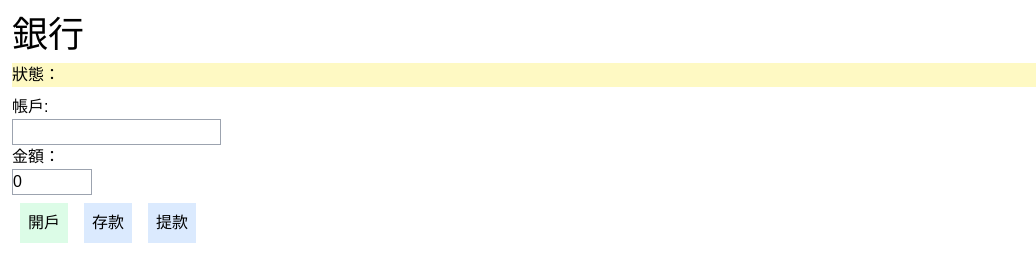
Test case: 執行存款 › 輸入帳戶名稱、金額，存款完成，狀態欄位顯示用戶餘額 1000 元
This screenshot has width=1036, height=260.
Type "小明" into the field with test id "input_account".
click(116, 132); type("小明")  # box [12, 119, 221, 145]
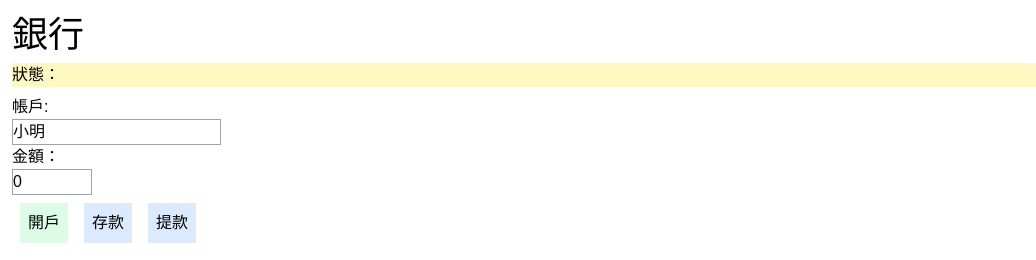
Click the button with test id "button_open-account".
click(44, 223)  # box [20, 203, 68, 243]
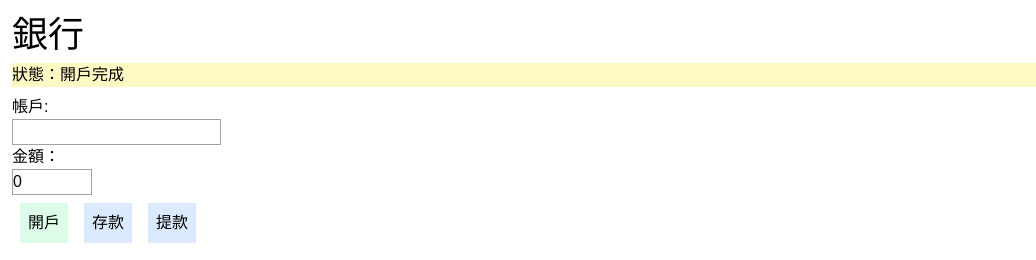
Type "小明" into the field with test id "input_account".
click(116, 132); type("小明")  # box [12, 119, 221, 145]
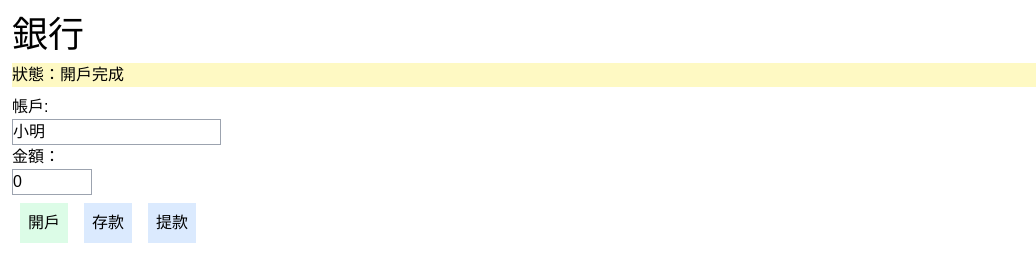
Replace the text in the number field with test id "input_money" with "1000" at (52, 182), box [12, 169, 92, 195]
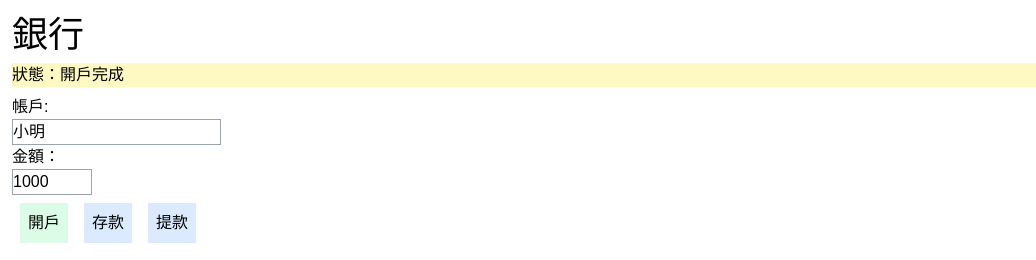
Click the button with test id "button_deposit".
click(108, 223)  # box [84, 203, 132, 243]
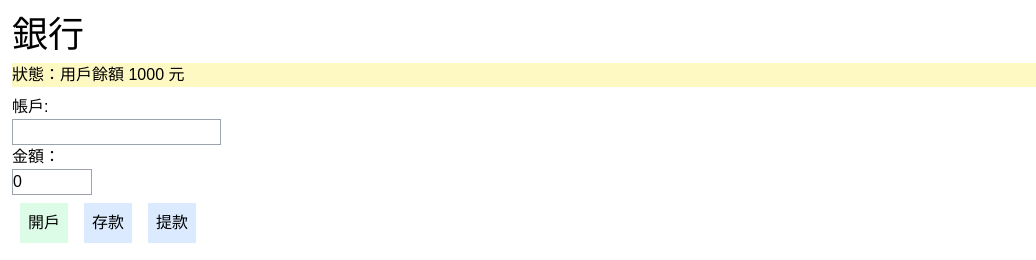
Result: the text with test id "status" reads "用戶餘額 1000 元" at [60, 66, 184, 83]
